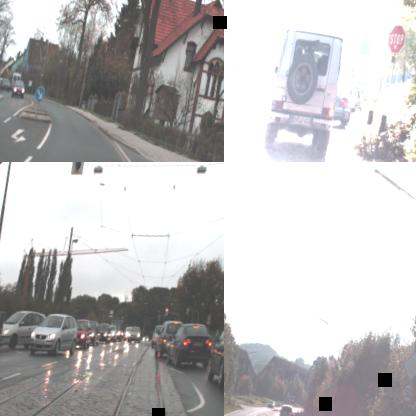STOP: (386, 22, 408, 55)
keep right: (32, 84, 46, 103)
priority road: (400, 349, 416, 382)
speed limit 50: (398, 380, 416, 404)
